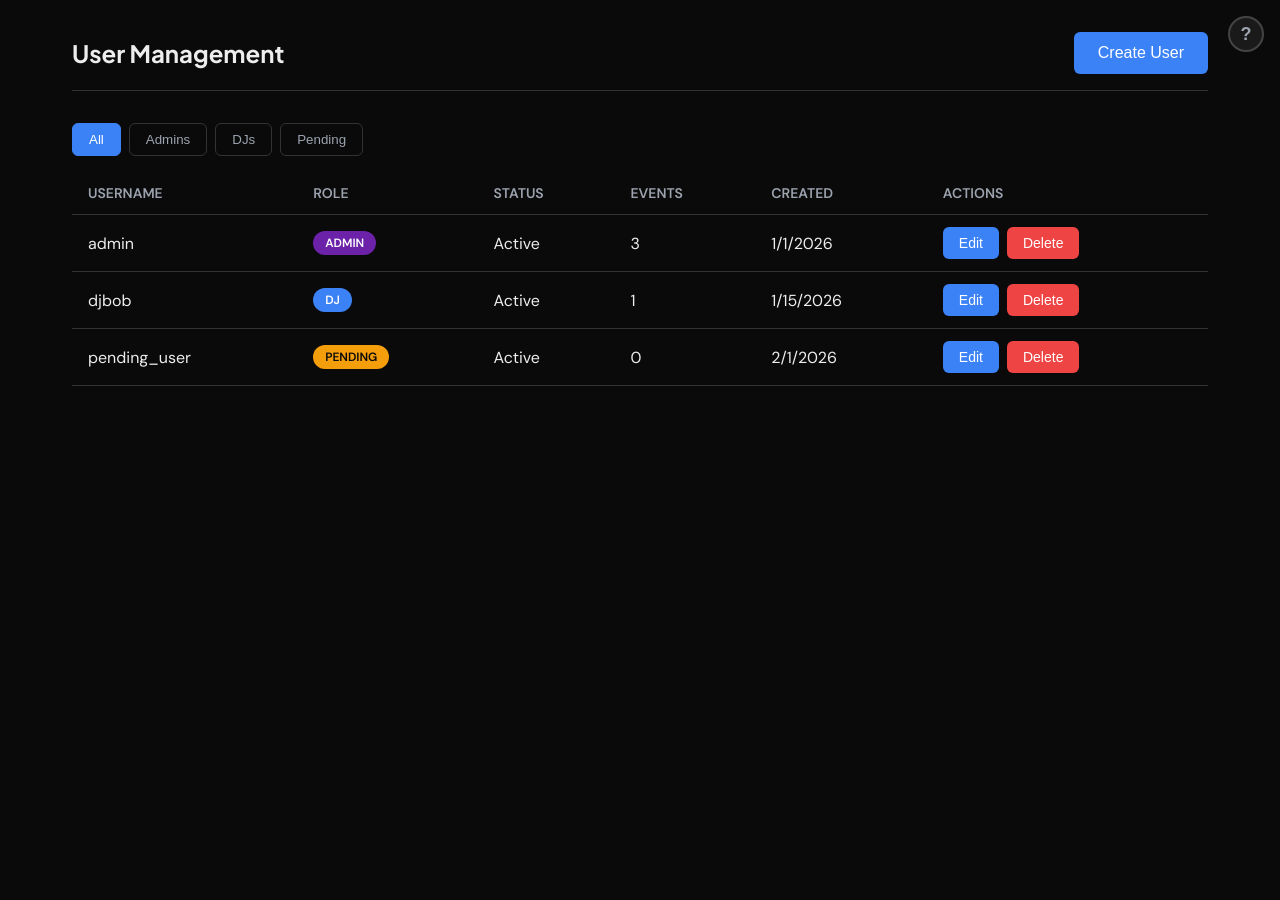
Test: AdminUsersPage › shows error when edit fails
The image size is (1280, 900).
Check: the text "djbob" is shown, box [72,272,297,328]
Click the button "Edit" next to "1/1/2026" at (971, 243), box [943,227,999,259]
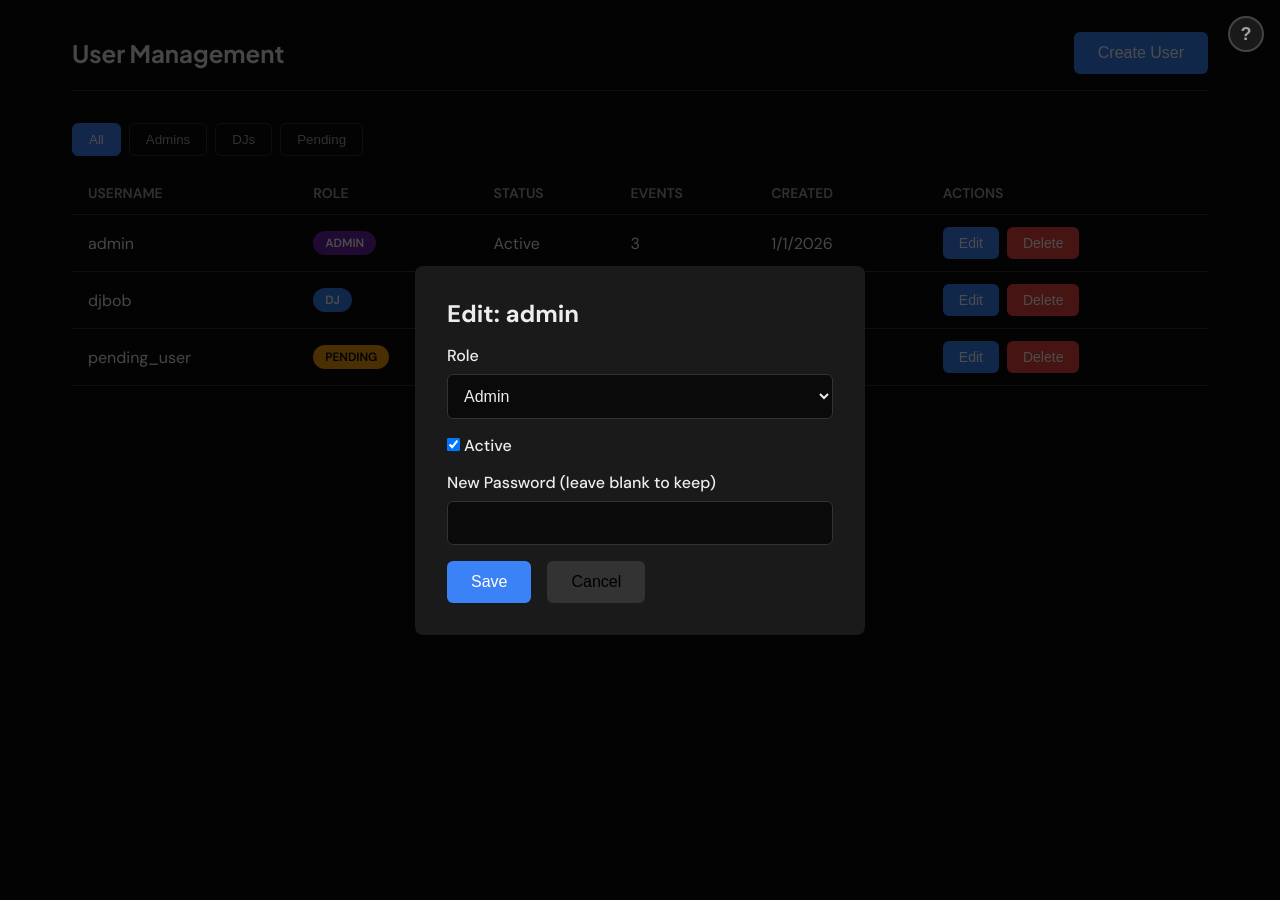
Select "DJ" in the dropdown labelled "Role" at (640, 396), box [447,374,833,418]
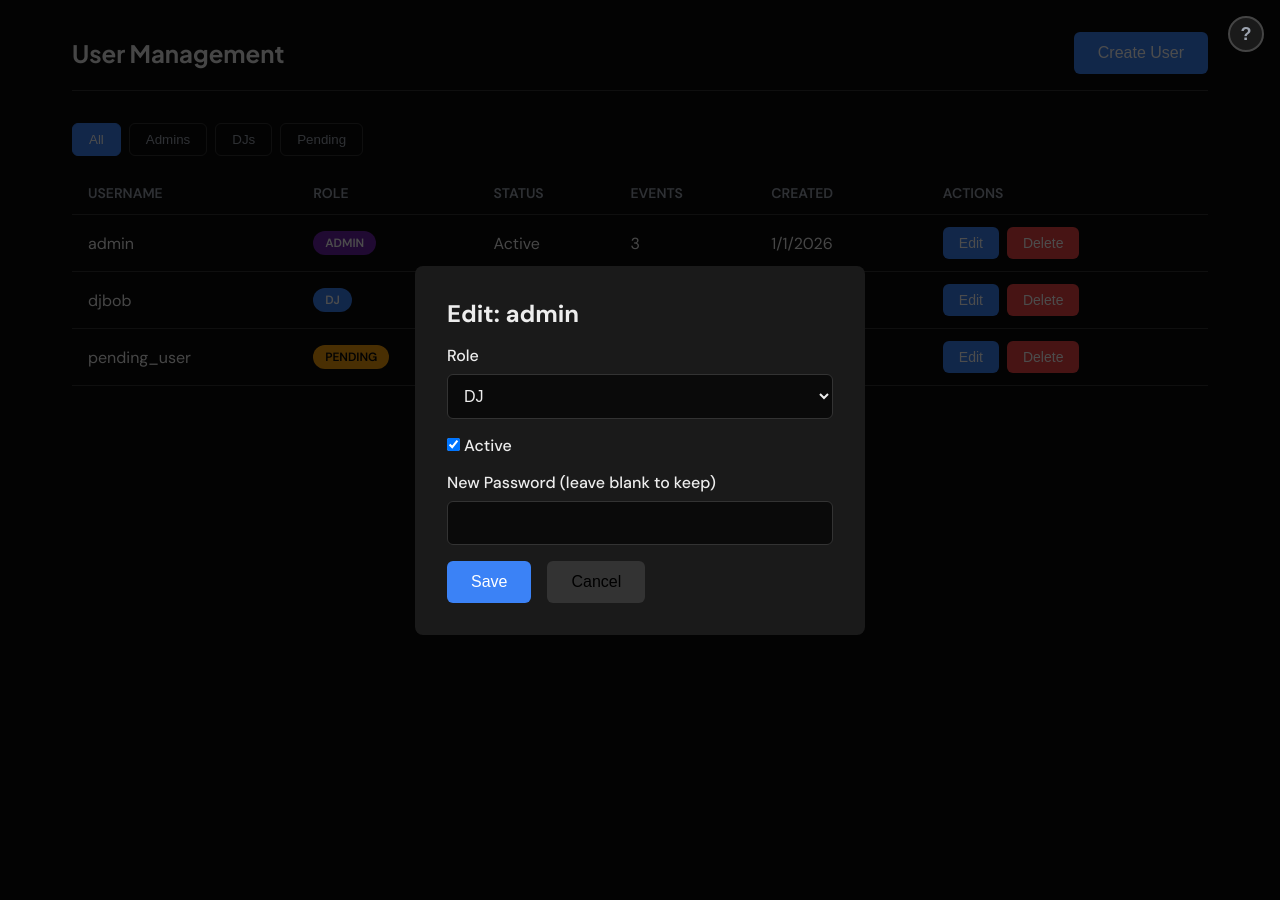
Submit the form from the button "Save", box [447,560,532,602]
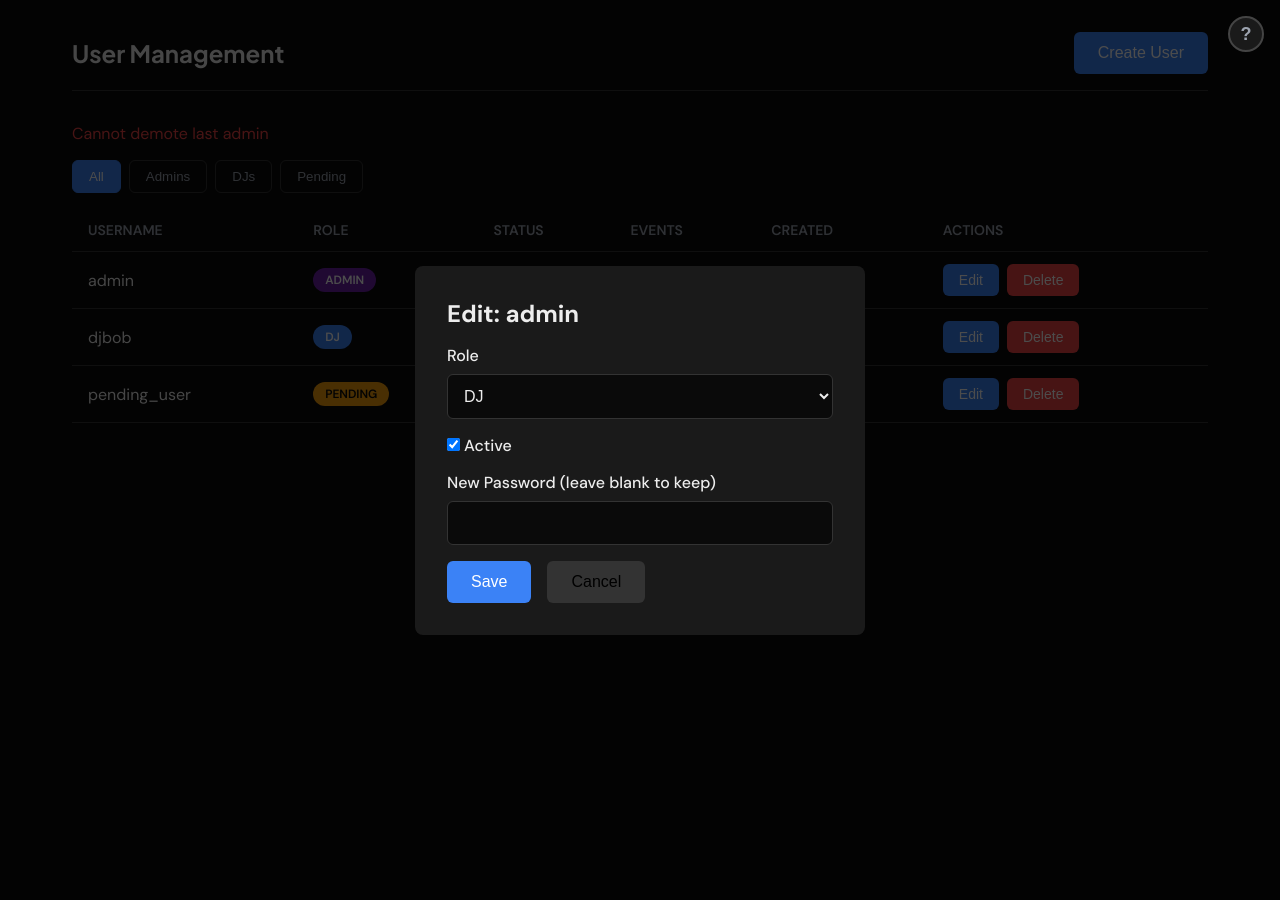
Check: the text "Cannot demote last admin" is shown, box [72,123,269,144]
